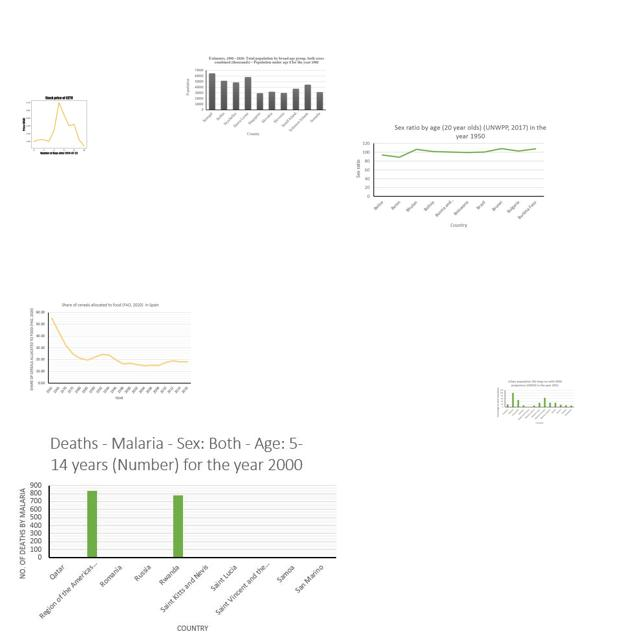Graph: (11, 430, 342, 636), (355, 123, 551, 230), (26, 299, 194, 402), (185, 55, 329, 137), (17, 93, 99, 155), (495, 379, 575, 425)
